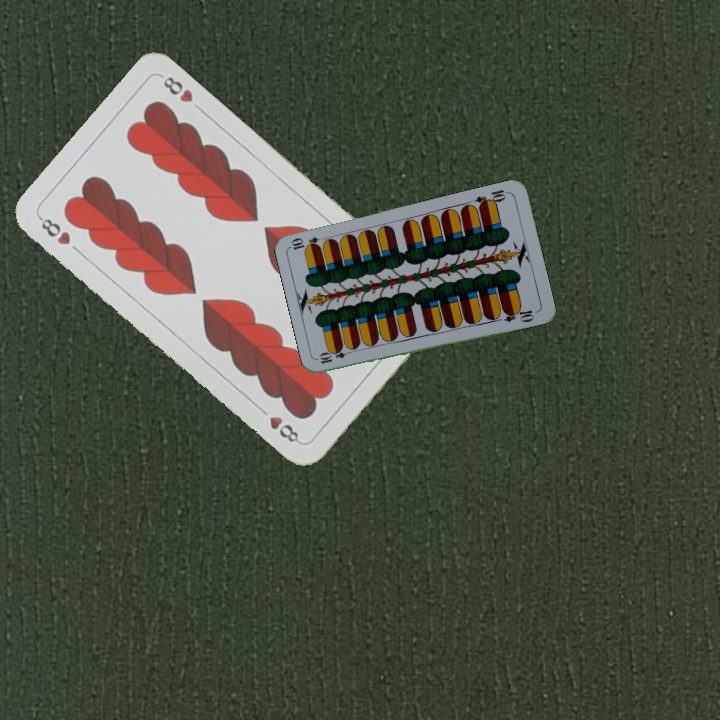E10: (471, 185, 511, 211), (315, 345, 355, 366)
H8: (34, 212, 73, 248)
